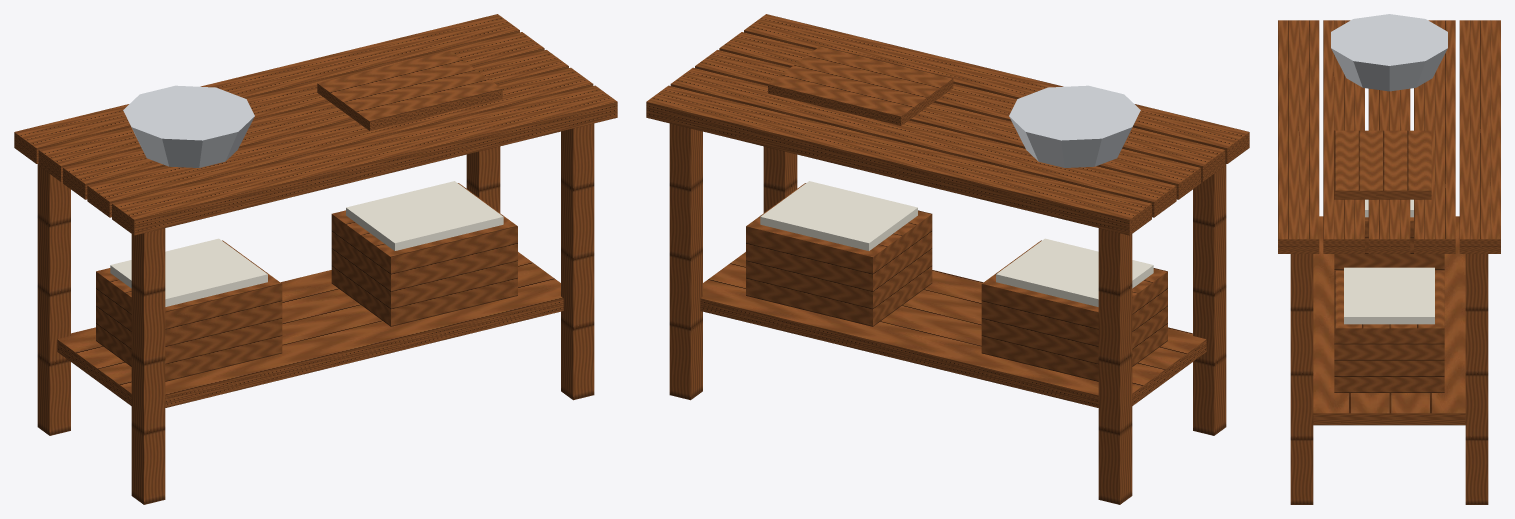
The model's file is safari-camp-and-bush-lodge-kitchen-prep-table-89c9736b__37685.glb.
The picture shows the model from 3 angles, left to right: view 1: azimuth 30°, elevation 25°; view 2: azimuth 150°, elevation 25°; view 3: azimuth 270°, elevation 25°; orthographic projection. The views are drawn at different scales.
Parts seen in each view (by area): view 1: kitchen-prep-table-timber, kitchen-prep-table-canvas, kitchen-prep-table-steel; view 2: kitchen-prep-table-timber, kitchen-prep-table-canvas, kitchen-prep-table-steel; view 3: kitchen-prep-table-timber, kitchen-prep-table-steel, kitchen-prep-table-canvas.
Boxes of the visible parts, x1,y1,x2,y2 form: kitchen-prep-table-timber: (14,14,617,504); kitchen-prep-table-canvas: (110,181,503,306); kitchen-prep-table-steel: (123,85,254,167); kitchen-prep-table-timber: (646,14,1249,504); kitchen-prep-table-canvas: (760,181,1153,306); kitchen-prep-table-steel: (1009,85,1140,167); kitchen-prep-table-timber: (1278,20,1500,504); kitchen-prep-table-steel: (1331,14,1447,91); kitchen-prep-table-canvas: (1344,199,1434,324).
Size of the model in its own units: 1.6 by 1.04 by 0.688.
3 materials, 1 textured.
